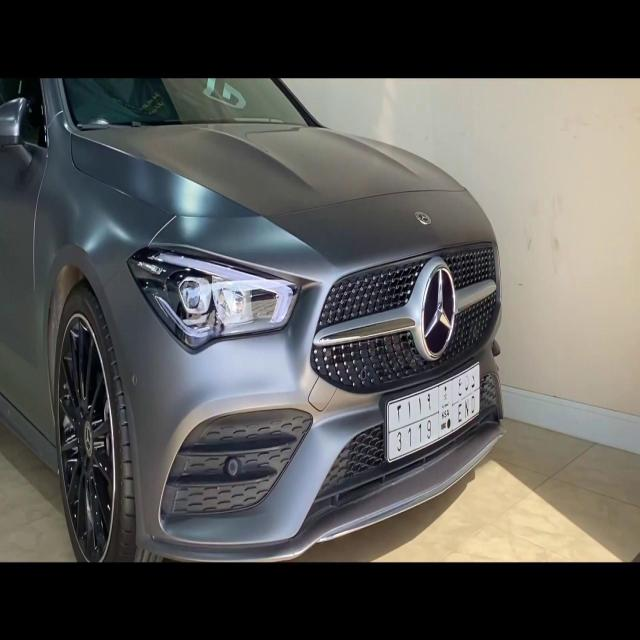license_plate: (378, 351, 485, 474)
